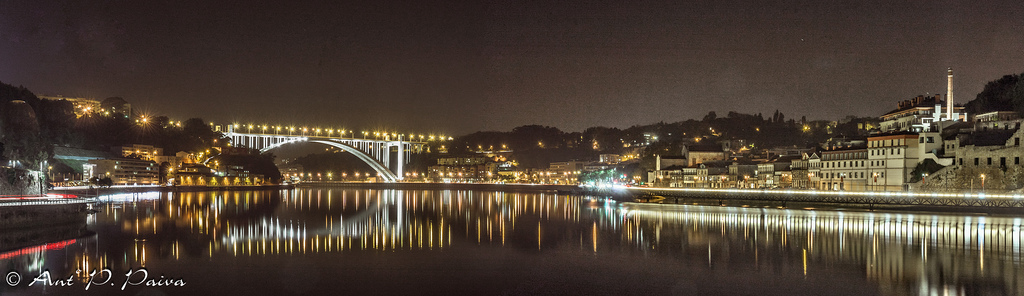arrabida: (215, 124, 434, 184)
